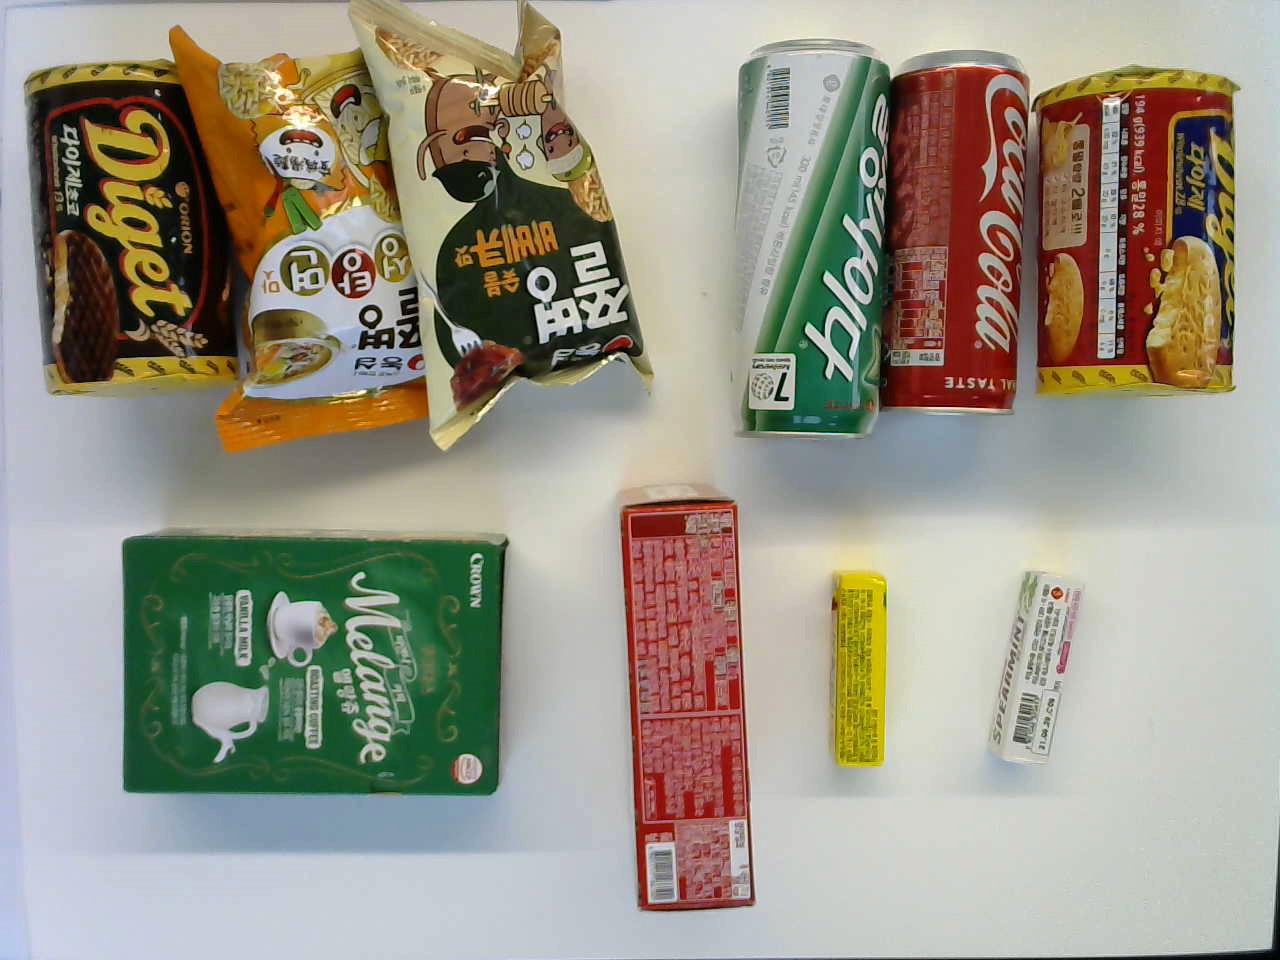cidar: (731, 32, 883, 449)
coke: (894, 43, 1032, 425)
couque_coffee: (116, 522, 511, 797)
couque_white: (612, 479, 757, 913)
diget_choco: (18, 54, 248, 400)
diget_ori: (1030, 62, 1237, 402)
jjolbyung_noodle: (163, 22, 430, 451)
jjolbyung_ori: (339, 0, 663, 466)
juicyfresh: (824, 563, 888, 770)
spearmint: (984, 568, 1086, 774)
